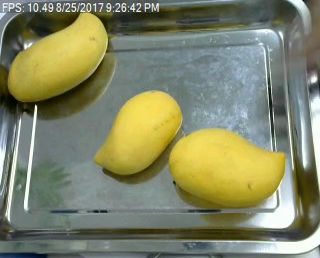Mango: (5, 8, 111, 102), (166, 128, 287, 207), (93, 88, 183, 175)
